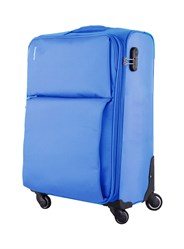luggage: (21, 24, 163, 226)
